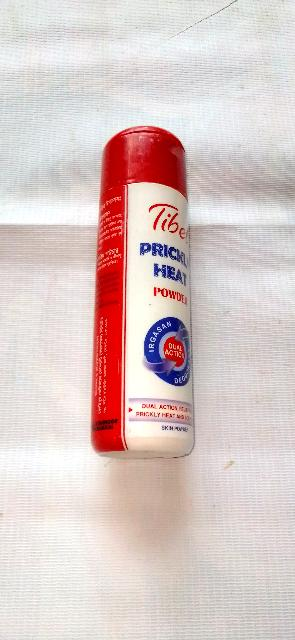bottle: (96, 107, 200, 441)
